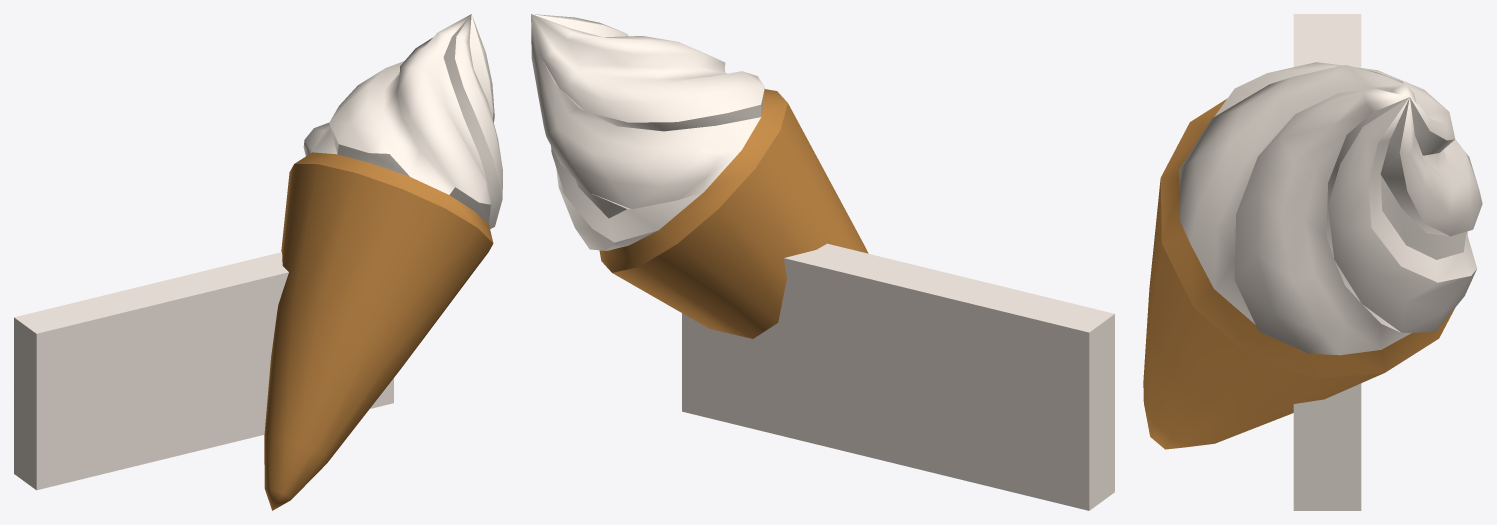
Rendered from shop01_upgrade1_s01.FBX.
3 renders of one model, left to right at view 1: azimuth 30°, elevation 25°; view 2: azimuth 150°, elevation 25°; view 3: azimuth 270°, elevation 25°, orthographic. The views are drawn at different scales.
Parts seen in each view (by area): view 1: shop01_upgrade1_s01; view 2: shop01_upgrade1_s01; view 3: shop01_upgrade1_s01.
Boxes of the visible parts, x1,y1,x2,y2 form: shop01_upgrade1_s01: [14, 14, 502, 510]; shop01_upgrade1_s01: [531, 14, 1114, 510]; shop01_upgrade1_s01: [1143, 14, 1482, 510].
Size of the model in its own units: 334 by 138 by 247.
1 material, 1 textured.
